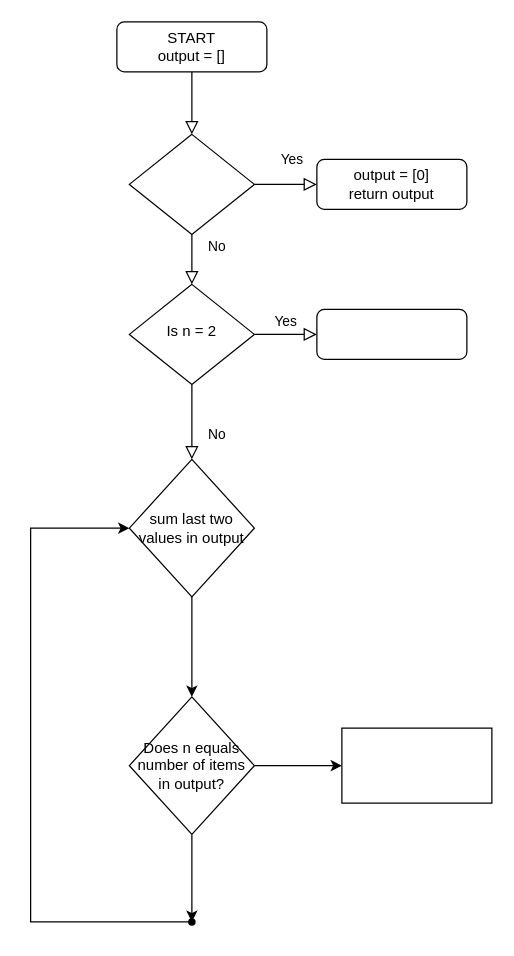
This 514x956 diagram has some shape labels left out. Here are the shapes that lost their labels. From the top down, the centre of each, then its label:
At point (191, 183): "Is n = 1".
At point (391, 333): "output = [0,1] return output".
At point (416, 765): "return output".
